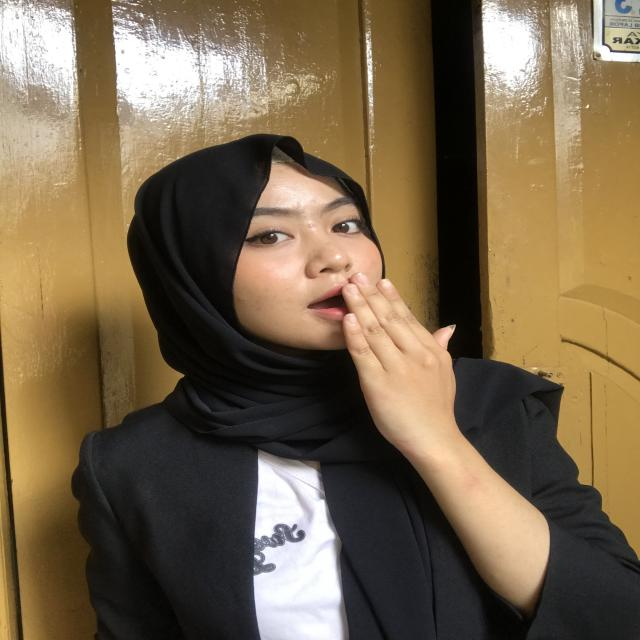ngantuk: (298, 263, 483, 506)
